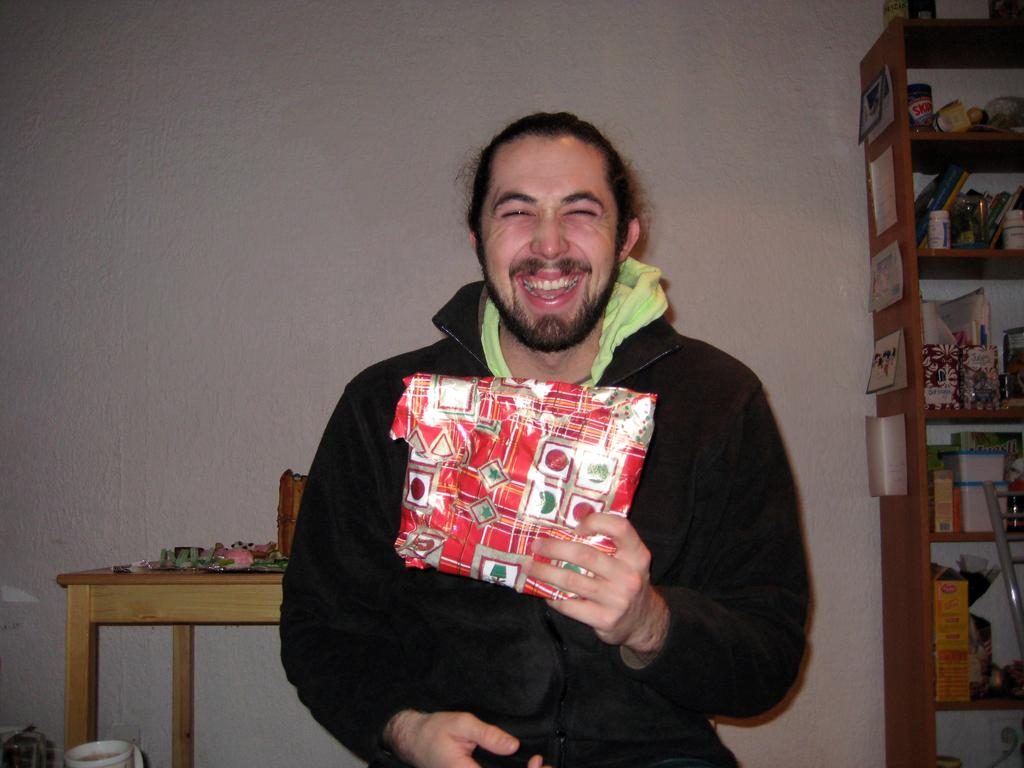Luggage-and-bags: (386, 368, 659, 602)
